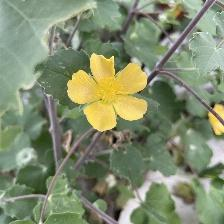indian mallow: (68, 52, 152, 136)
